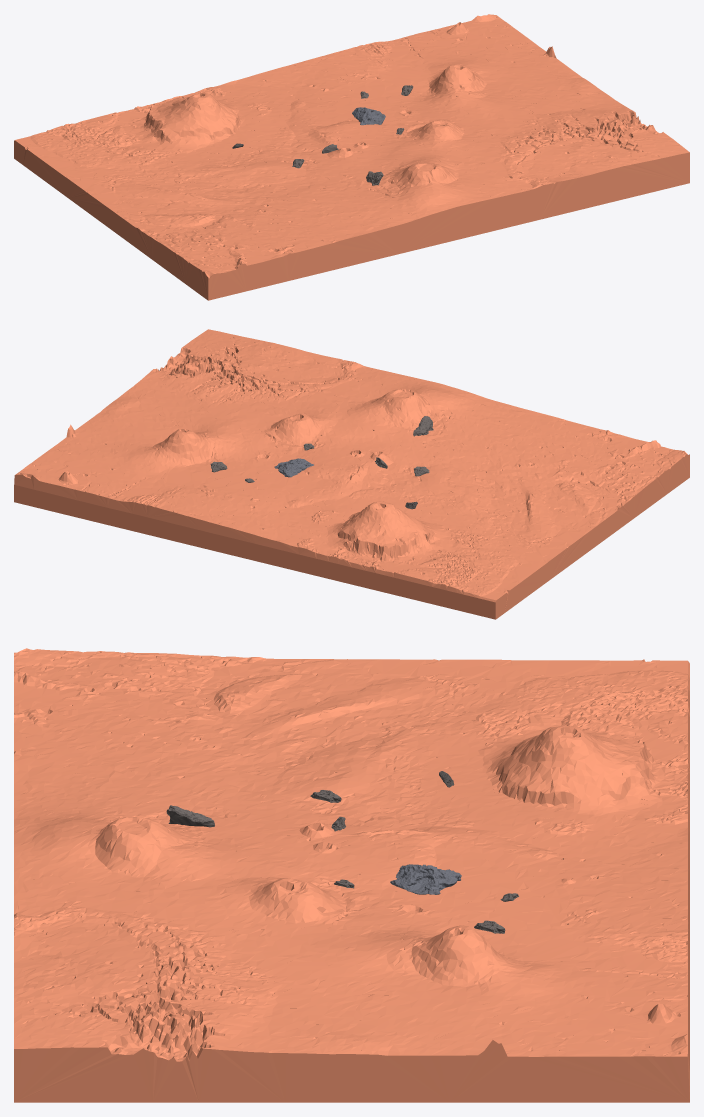
Rendered from mars_tharsis_region.dae.
3 renders of one model, top to bottom at view 1: azimuth 30°, elevation 25°; view 2: azimuth 150°, elevation 25°; view 3: azimuth 270°, elevation 25°, orthographic. The views are drawn at different scales.
Parts seen in each view (by area): view 1: MarsTharsisRegion6xv, Block Island.001; view 2: MarsTharsisRegion6xv, Block Island.001; view 3: MarsTharsisRegion6xv, Block Island.001.
Part boxes in pixels (box(x1,y1,x2,y2)): MarsTharsisRegion6xv: box(14, 14, 689, 300); Block Island.001: box(352, 107, 385, 125); MarsTharsisRegion6xv: box(14, 329, 689, 619); Block Island.001: box(274, 458, 313, 477); MarsTharsisRegion6xv: box(14, 648, 689, 1102); Block Island.001: box(390, 864, 461, 894).
Bounding box in the file's own units: 146 × 102 × 15.17.
